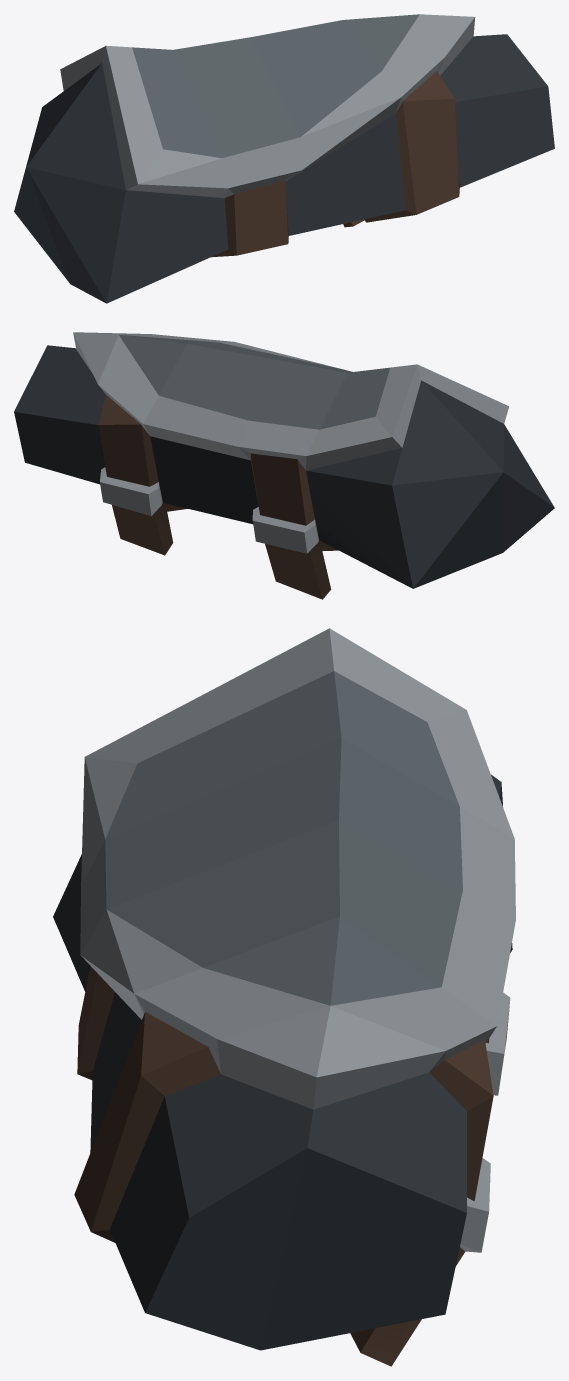
Rendered from Chr_ArmUpperLeft_Male_13_Static.fbx.
The picture shows the model from 3 angles, top to bottom: view 1: azimuth 30°, elevation 25°; view 2: azimuth 150°, elevation 25°; view 3: azimuth 270°, elevation 25°; orthographic projection. The views are drawn at different scales.
Visible parts, largest first — view 1: Chr_ArmUpperLeft_Male_13_Static; view 2: Chr_ArmUpperLeft_Male_13_Static; view 3: Chr_ArmUpperLeft_Male_13_Static.
Part boxes in pixels (x1=…): Chr_ArmUpperLeft_Male_13_Static: x1=14, y1=14, x2=554, y2=303; Chr_ArmUpperLeft_Male_13_Static: x1=14, y1=332, x2=554, y2=599; Chr_ArmUpperLeft_Male_13_Static: x1=53, y1=628, x2=515, y2=1366.
Size of the model in its own units: 0.3345 by 0.1658 by 0.1439.
